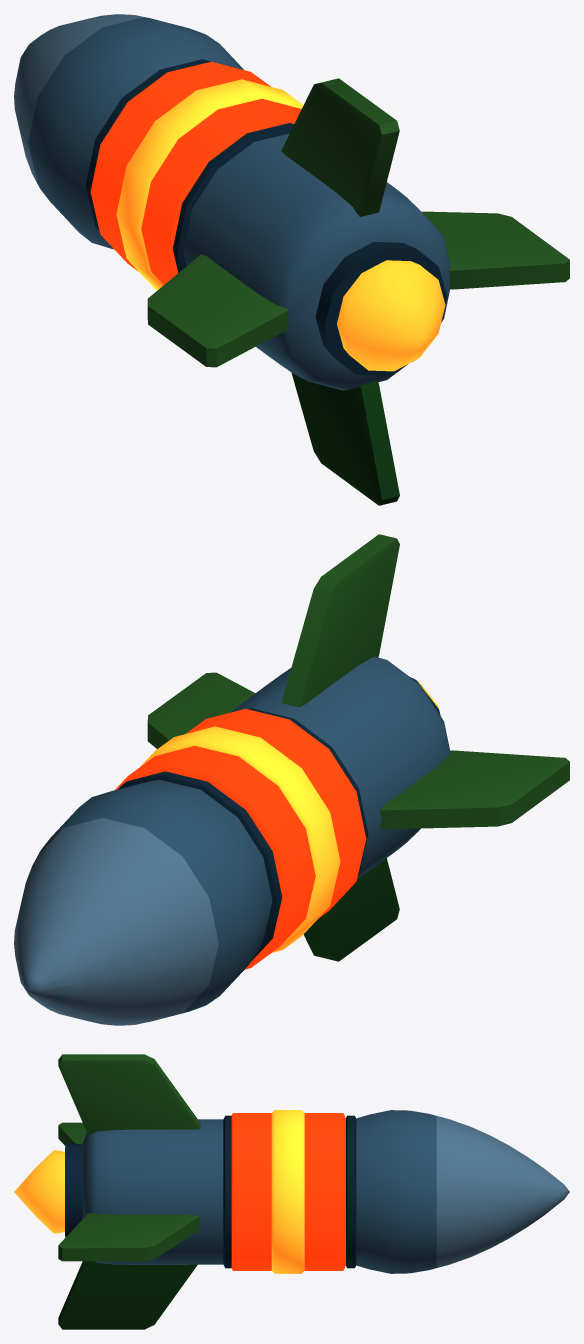
Rendered from shot_hmissile_steel_g.glb.
3 views of the same model, one above another, from view 1: azimuth 30°, elevation 25°; view 2: azimuth 150°, elevation 25°; view 3: azimuth 270°, elevation 25° (orthographic). The views are drawn at different scales.
Parts seen in each view (by area): view 1: hg_tail0, hg_head0, hg_band, hg_fin.001, hg_fin.002, hg_flame, hg_fin.003, hg_fin, hg_band_bright, hg_nozzle, hg_head1, hg_band_seam (+1 smaller); view 2: hg_head1, hg_band, hg_tail0, hg_head0, hg_fin.001, hg_fin.002, hg_band_bright, hg_fin.003, hg_fin, hg_band_seam2, hg_band_seam; view 3: hg_tail0, hg_band, hg_head0, hg_head1, hg_fin.001, hg_fin.003, hg_band_bright, hg_fin, hg_flame, hg_band_seam2, hg_nozzle, hg_band_seam (+1 smaller).
Part boxes in pixels (<box>): hg_tail0: <box>183,133,450,390</box>; hg_head0: <box>28,17,243,249</box>; hg_band: <box>90,61,301,284</box>; hg_fin.001: <box>281,78,399,216</box>; hg_fin.002: <box>147,254,288,367</box>; hg_flame: <box>337,260,445,371</box>; hg_fin.003: <box>291,372,399,505</box>; hg_fin: <box>422,211,569,289</box>; hg_band_bright: <box>116,79,303,290</box>; hg_nozzle: <box>315,242,446,375</box>; hg_head1: <box>14,14,143,182</box>; hg_band_seam: <box>173,123,294,272</box>; hg_head1: <box>14,818,218,1025</box>; hg_band: <box>115,708,366,969</box>; hg_tail0: <box>230,656,449,879</box>; hg_head0: <box>38,779,272,1021</box>; hg_fin.001: <box>281,534,399,707</box>; hg_fin.002: <box>379,750,569,829</box>; hg_band_bright: <box>140,726,340,952</box>; hg_fin.003: <box>303,858,399,961</box>; hg_fin: <box>147,672,255,748</box>; hg_band_seam2: <box>118,771,282,960</box>; hg_band_seam: <box>248,708,368,875</box>; hg_tail0: <box>82,1119,223,1264</box>; hg_band: <box>231,1113,345,1270</box>; hg_head0: <box>356,1110,436,1273</box>; hg_head1: <box>436,1116,569,1267</box>; hg_fin.001: <box>58,1054,200,1135</box>; hg_fin.003: <box>58,1261,197,1329</box>; hg_band_bright: <box>271,1110,304,1273</box>; hg_fin: <box>58,1213,200,1261</box>; hg_flame: <box>14,1150,64,1233</box>; hg_band_seam2: <box>346,1115,356,1268</box>; hg_nozzle: <box>65,1142,82,1237</box>; hg_band_seam: <box>223,1115,231,1268</box>.
Size of the model in its own units: 7.8 by 7.8 by 14.6.
